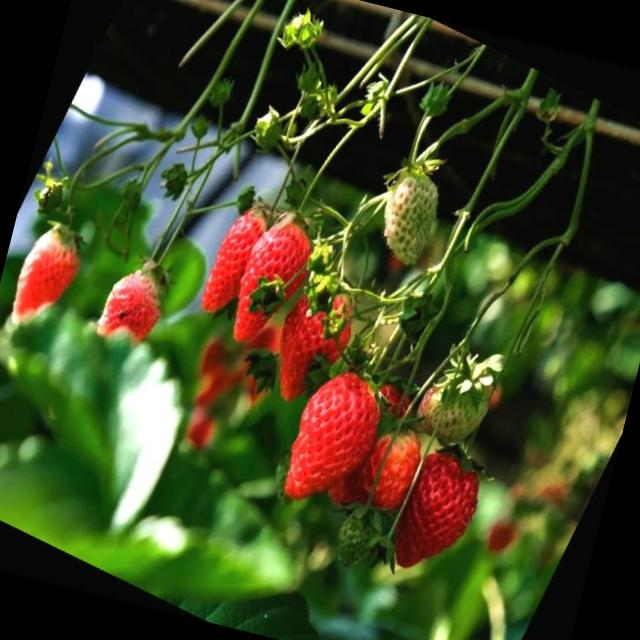ripe: (262, 350, 400, 527), (244, 260, 374, 421), (208, 194, 331, 363), (376, 434, 500, 588), (0, 206, 98, 342), (190, 194, 278, 324), (82, 256, 176, 368), (346, 406, 436, 522)
